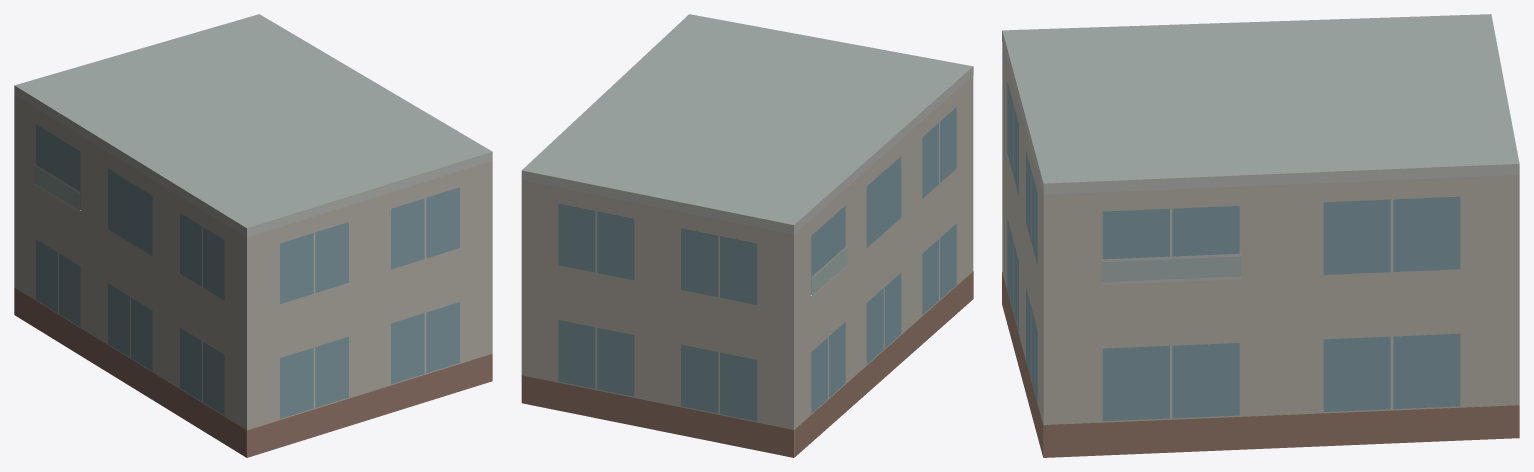
The model's file is survey-upis-32608038.glb.
3 renders of one model, left to right at view 1: azimuth 30°, elevation 25°; view 2: azimuth 150°, elevation 25°; view 3: azimuth 270°, elevation 25°, orthographic. The views are drawn at different scales.
Parts seen in each view (by area): view 1: survey-upis-32608038.tmp; view 2: survey-upis-32608038.tmp; view 3: survey-upis-32608038.tmp.
Part boxes in pixels (bbox=[...]): survey-upis-32608038.tmp: bbox=[14, 14, 492, 457]; survey-upis-32608038.tmp: bbox=[521, 14, 973, 457]; survey-upis-32608038.tmp: bbox=[1002, 14, 1519, 457].
Size of the model in its own units: 8.1 by 6.1 by 10.44.
